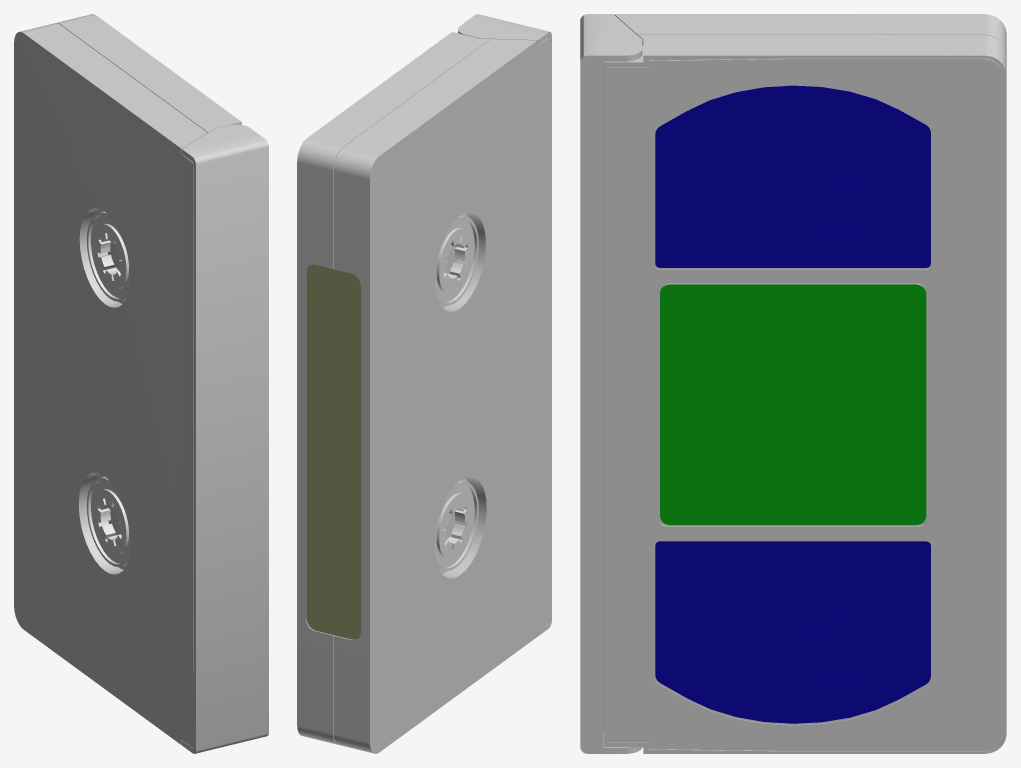
File: tape.fbx
3 renders of one model, left to right at view 1: azimuth 30°, elevation 25°; view 2: azimuth 150°, elevation 25°; view 3: azimuth 270°, elevation 25°, orthographic. The views are drawn at different scales.
Visible parts, largest first — view 1: tape.001, hinge, rotate; view 2: tape.001, rotate, hinge; view 3: tape.001, hinge.
Boxes of the visible parts, x1,y1,x2,y2 form: tape.001: (14, 14, 241, 747); hinge: (182, 124, 268, 753); rotate: (86, 209, 130, 569); tape.001: (297, 32, 548, 753); rotate: (434, 213, 478, 573); hinge: (458, 14, 551, 636); tape.001: (603, 14, 1006, 753); hinge: (580, 14, 642, 753).
Bounding box in the file's own units: 14.89 × 116 × 64.41.
